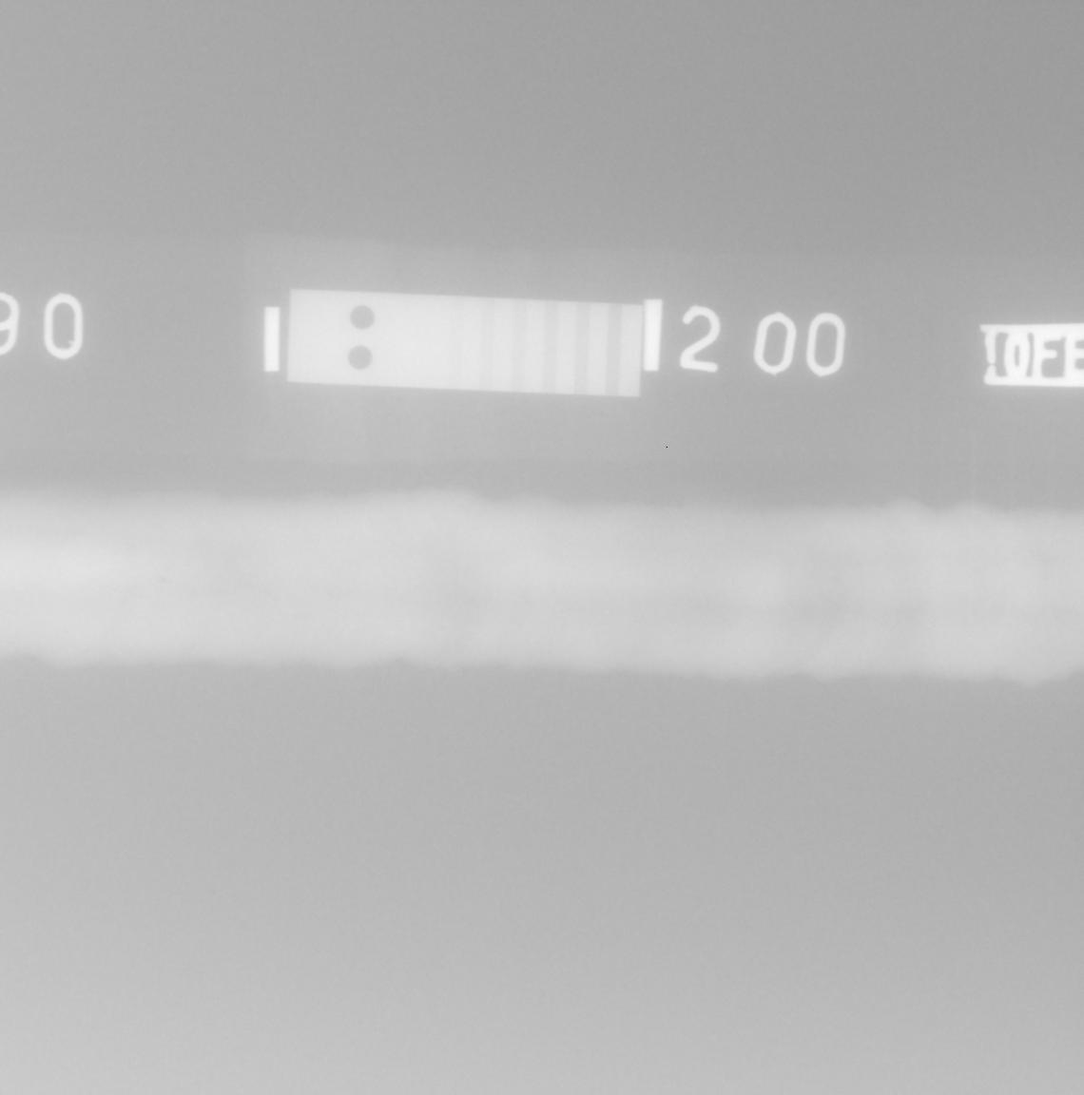Pore/Porosity: (156, 575, 168, 585), (832, 576, 839, 582), (169, 580, 173, 585)
Reference Standard 2: (287, 288, 643, 397)
